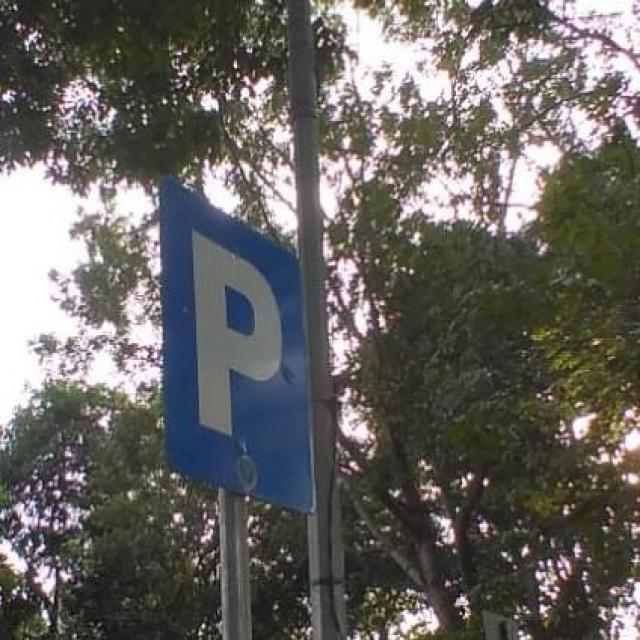traffic sign: (155, 176, 316, 511)
